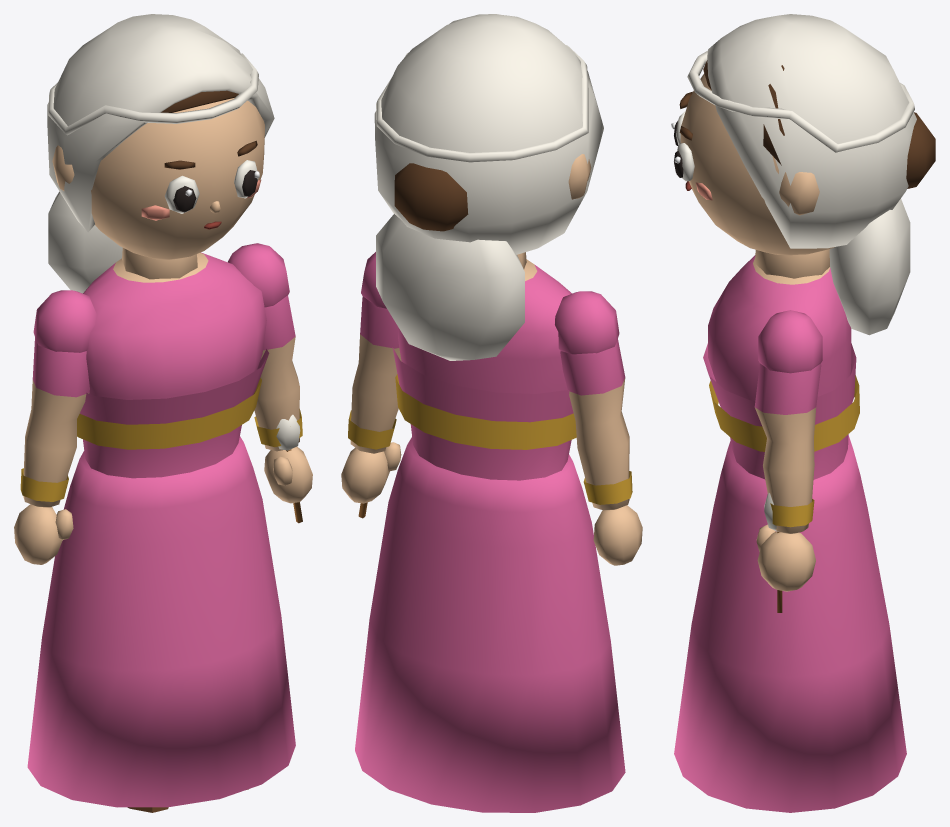
File: penelope.glb
3 views of the same model, side by side, from view 1: azimuth 30°, elevation 25°; view 2: azimuth 150°, elevation 25°; view 3: azimuth 270°, elevation 25° (orthographic).
Visible parts, largest first — view 1: huefte, rumpf, kopfschmuck, kopf, armL, armR, haare, augeL, itemR, augeR; view 2: huefte, kopfschmuck, rumpf, armL, armR, haare, kopf; view 3: huefte, kopfschmuck, rumpf, armR, kopf, haare, augeR.
Part boxes in pixels (box(x1,y1,x2,y2)): huefte: box(27, 436, 295, 807); rumpf: box(77, 252, 269, 478); kopfschmuck: box(47, 14, 274, 293); kopf: box(52, 98, 264, 279); armL: box(14, 290, 96, 564); armR: box(228, 243, 312, 503); haare: box(48, 53, 258, 135); augeL: box(164, 175, 199, 213); itemR: box(276, 414, 302, 523); augeR: box(234, 160, 259, 198); huefte: box(355, 437, 625, 812); kopfschmuck: box(374, 14, 603, 360); rumpf: box(392, 259, 576, 480); armL: box(555, 291, 642, 565); armR: box(341, 252, 401, 503); haare: box(376, 45, 588, 231); kopf: box(517, 154, 591, 269); huefte: box(674, 435, 906, 812); kopfschmuck: box(707, 14, 916, 335); rumpf: box(703, 255, 859, 479); armR: box(754, 310, 822, 591); kopf: box(680, 73, 834, 278); haare: box(687, 50, 935, 188); augeR: box(674, 143, 694, 181).
Size of the model in its own units: 0.9329 by 2.3 by 0.7376.
